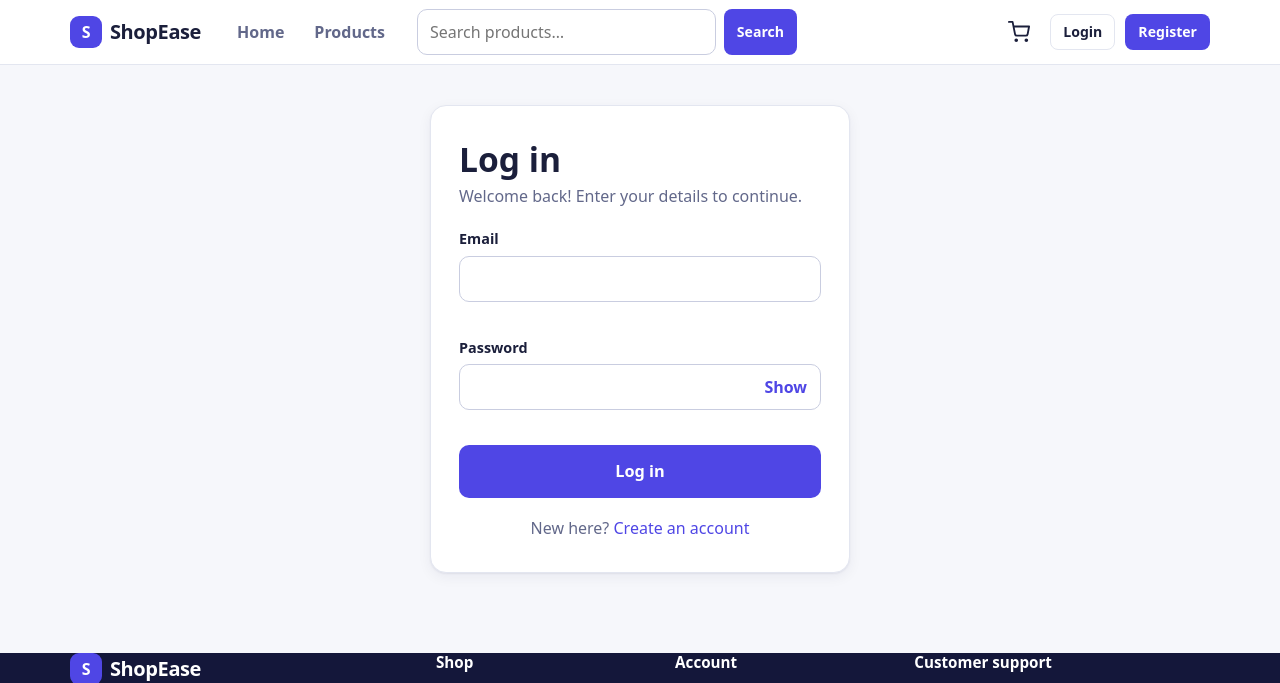
customer journey › login shows an error for wrong credentials
In the field labelled "Email": (640, 279) [459,256,821,302], type "nobody@example.com"
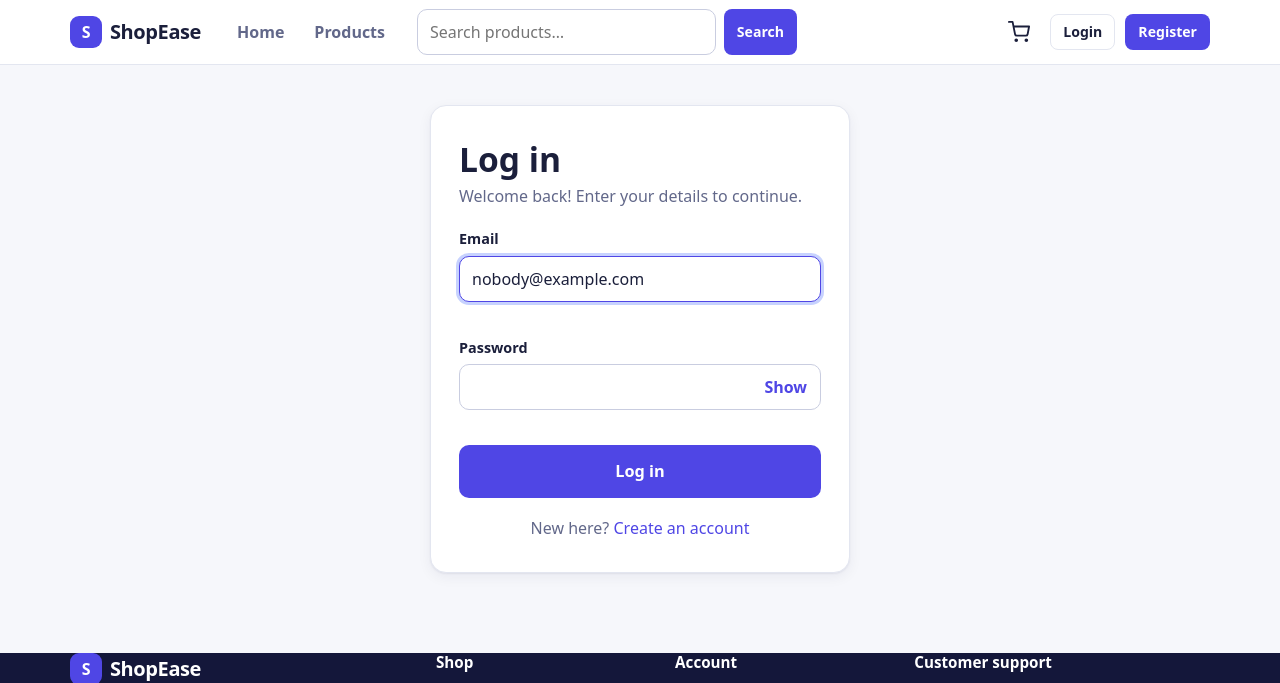
In the password field labelled "Password": (640, 387) [459,364,821,410], type "wrongpass"
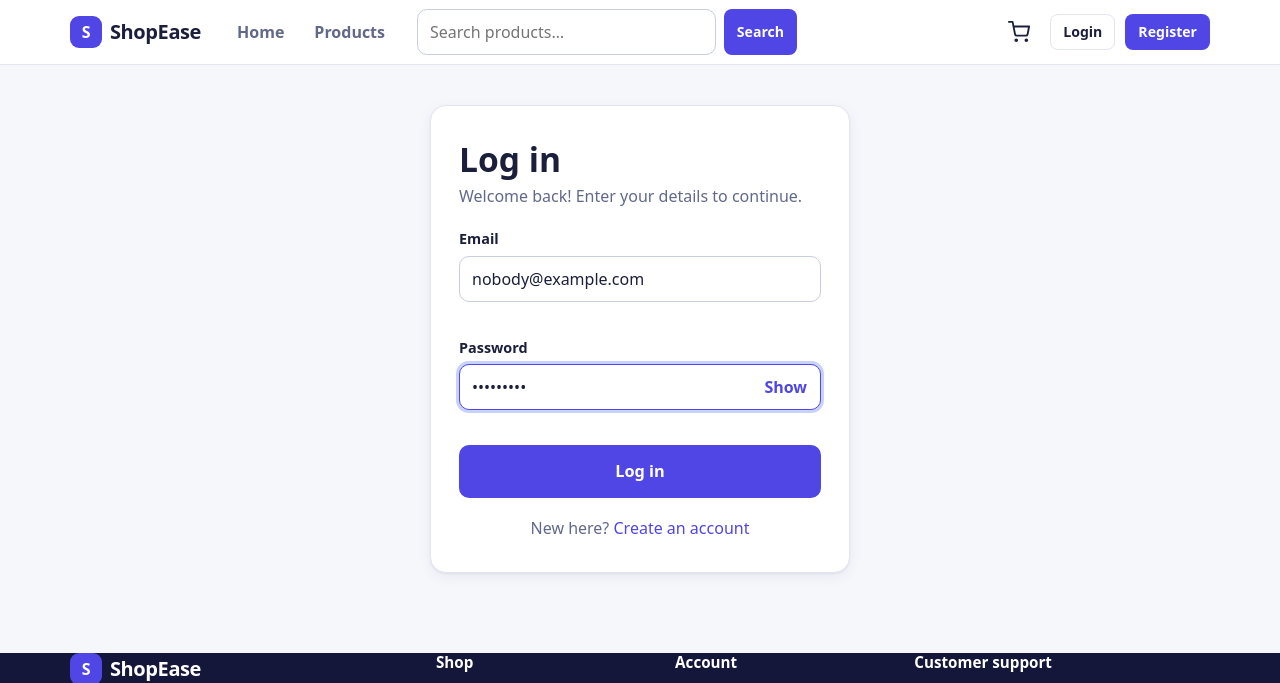
Click the button "Log in": click(640, 471) [459,445,821,498]
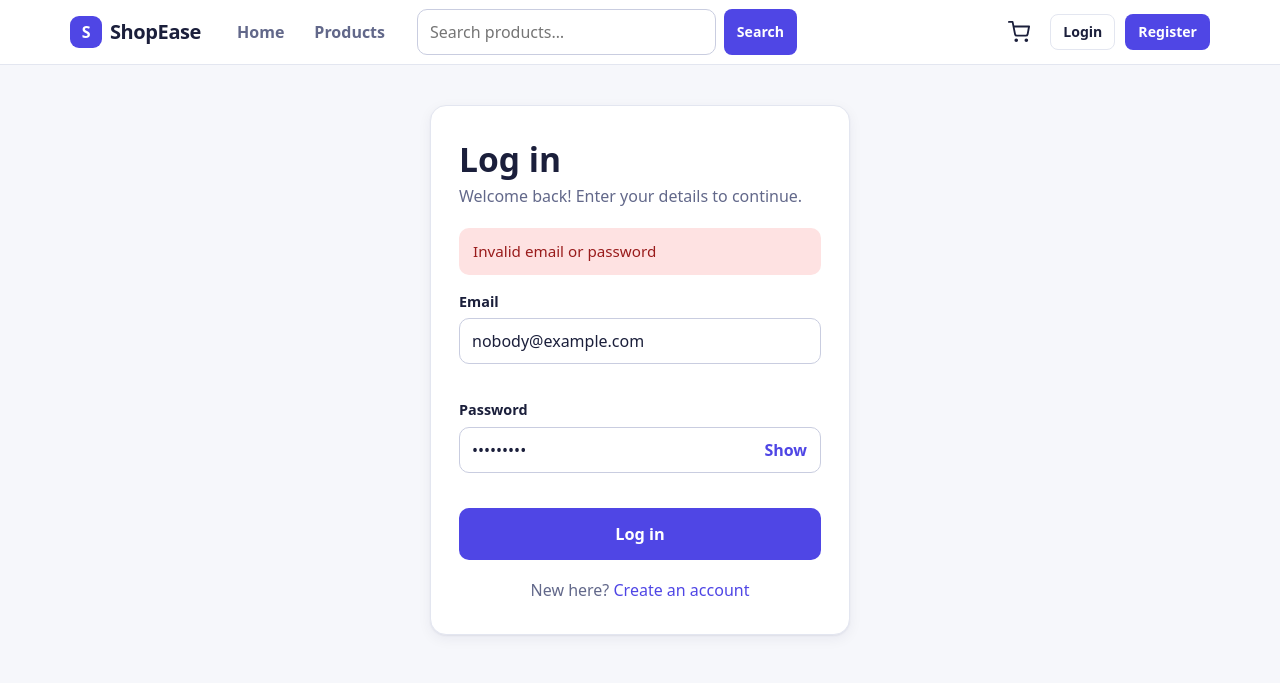
Expected: the text "Invalid email or password" is shown, [459,228,821,275]
